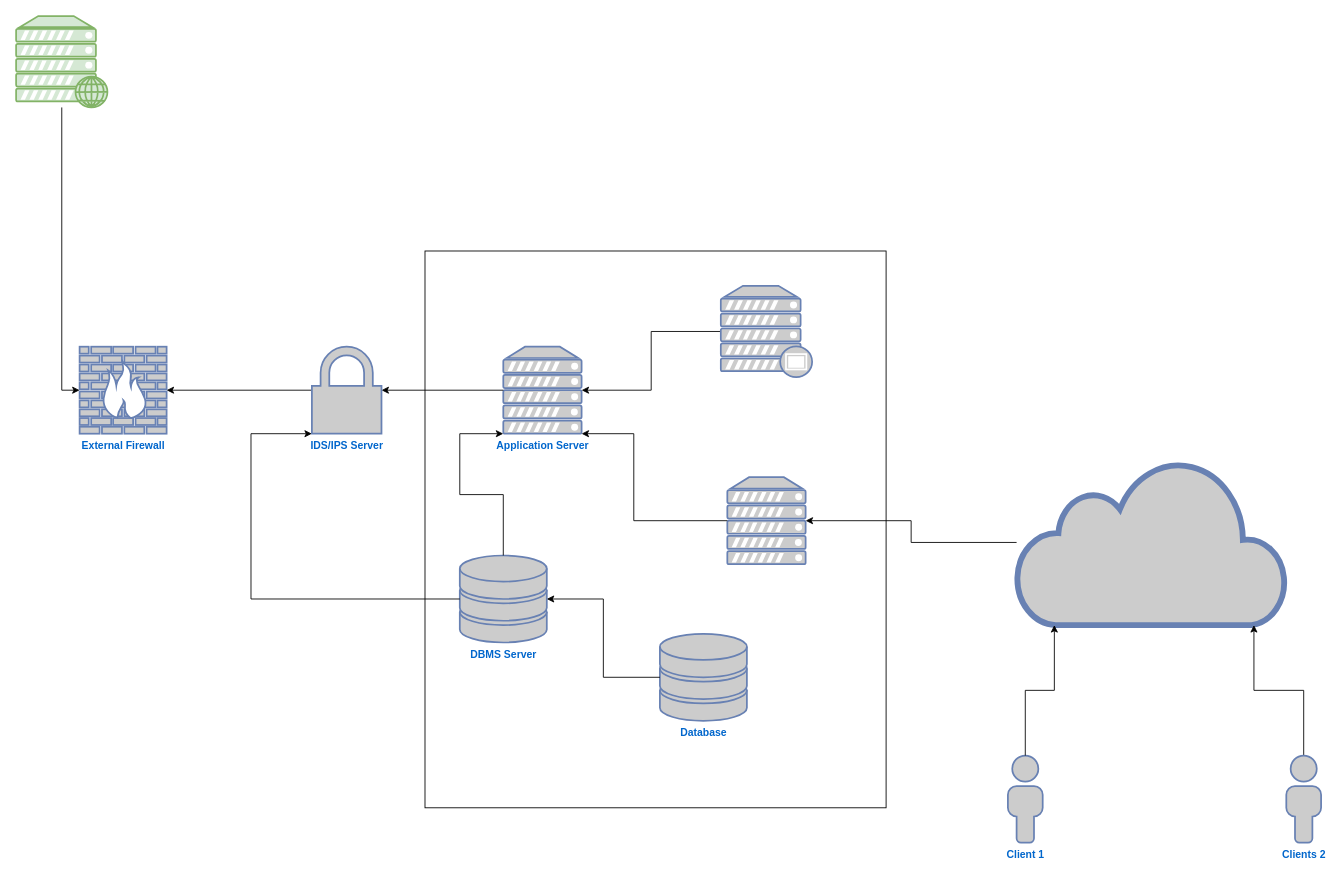
The diagram is 1340 pixels wide and 875 high, and some of its shapes have lost their labels. Each missing label, with the centre of its shape:
Email Server: point 766,331
Employee Server: point 766,520
Local Area Network (LAN): point 1151,542
Web Server: point 61,61
